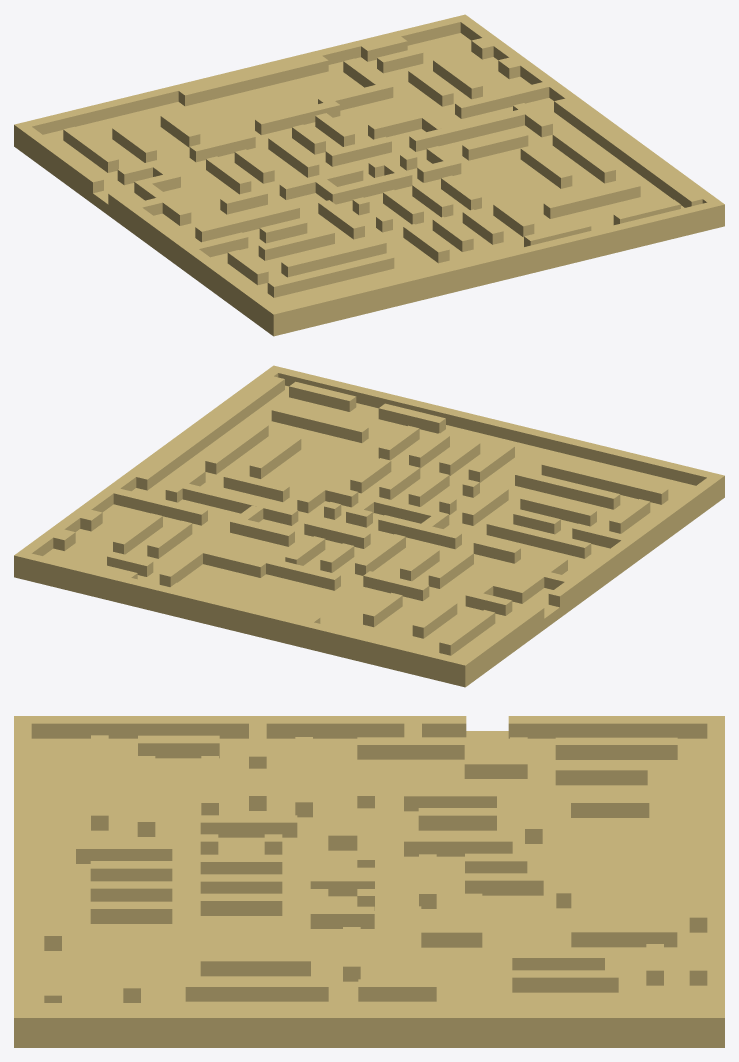
File: Esce.fbx
3 views of the same model, one above another, from view 1: azimuth 30°, elevation 25°; view 2: azimuth 150°, elevation 25°; view 3: azimuth 270°, elevation 25° (orthographic). The views are drawn at different scales.
Visible parts, largest first — view 1: pCube73, pCube71, pCube72, pCube69, pCube57, pCube68, pCube29, pCube19, pCube20, pCube10, pCube38, pCube70 (+45 smaller); view 2: pCube73, pCube72, pCube71, pCube69, pCube57, pCube68, pCube19, pCube20, pCube10, pCube38, pCube7, pCube6 (+45 smaller); view 3: pCube73, pCube57, pCube69, pCube72, pCube71, pCube70, pCube40, pCube68, pCube54, pCube39, pCube56, pCube51 (+50 smaller).
Part boxes in pixels (bbox=[...]): pCube73: bbox=[14, 33, 724, 336]; pCube71: bbox=[267, 200, 724, 325]; pCube72: bbox=[14, 14, 471, 139]; pCube69: bbox=[108, 191, 277, 320]; pCube57: bbox=[460, 19, 718, 203]; pCube68: bbox=[554, 98, 702, 207]; pCube29: bbox=[178, 56, 328, 106]; pCube19: bbox=[267, 253, 394, 297]; pCube20: bbox=[409, 109, 524, 151]; pCube10: bbox=[281, 238, 386, 277]; pCube38: bbox=[195, 203, 299, 242]; pCube70: bbox=[20, 126, 103, 193]; pCube73: bbox=[14, 385, 724, 687]; pCube72: bbox=[14, 551, 471, 676]; pCube71: bbox=[267, 365, 724, 490]; pCube69: bbox=[548, 477, 718, 607]; pCube57: bbox=[20, 370, 278, 555]; pCube68: bbox=[136, 376, 284, 490]; pCube19: bbox=[541, 460, 668, 504]; pCube20: bbox=[182, 483, 298, 525]; pCube10: bbox=[515, 470, 620, 509]; pCube38: bbox=[486, 519, 591, 558]; pCube7: bbox=[271, 405, 368, 442]; pCube6: bbox=[113, 488, 207, 525]; pCube73: bbox=[14, 731, 724, 1047]; pCube57: bbox=[31, 1010, 707, 1032]; pCube69: bbox=[31, 716, 466, 738]; pCube72: bbox=[707, 716, 724, 1032]; pCube71: bbox=[14, 716, 31, 1032]; pCube70: bbox=[508, 716, 707, 738]; pCube40: bbox=[185, 979, 328, 1001]; pCube68: bbox=[44, 1003, 420, 1010]; pCube54: bbox=[555, 737, 677, 759]; pCube39: bbox=[200, 953, 310, 976]; pCube56: bbox=[357, 737, 464, 759]; pCube51: bbox=[512, 970, 618, 992].
Bounding box in the file's own units: 9417 × 436 × 9378.
